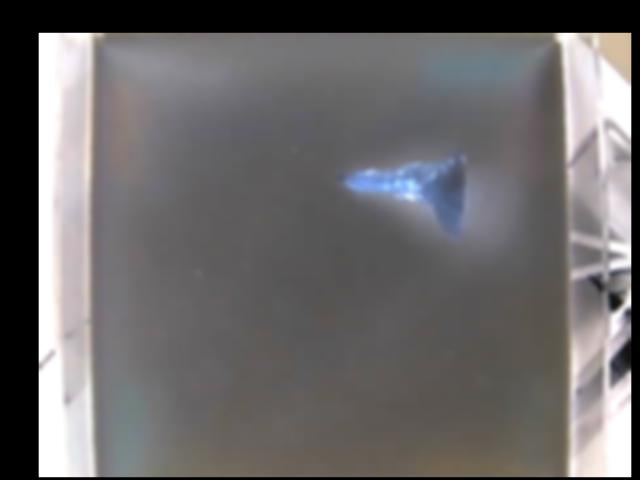Mooli: (331, 153, 472, 238)
